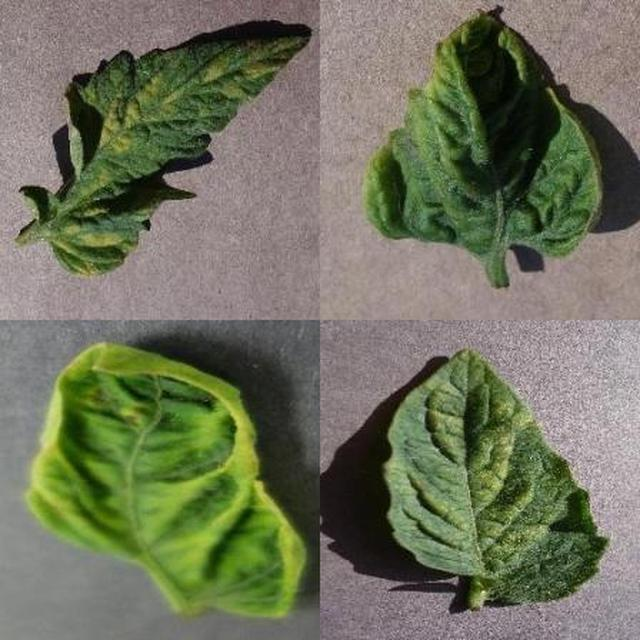Leaf Mold: (234, 188, 640, 640)
